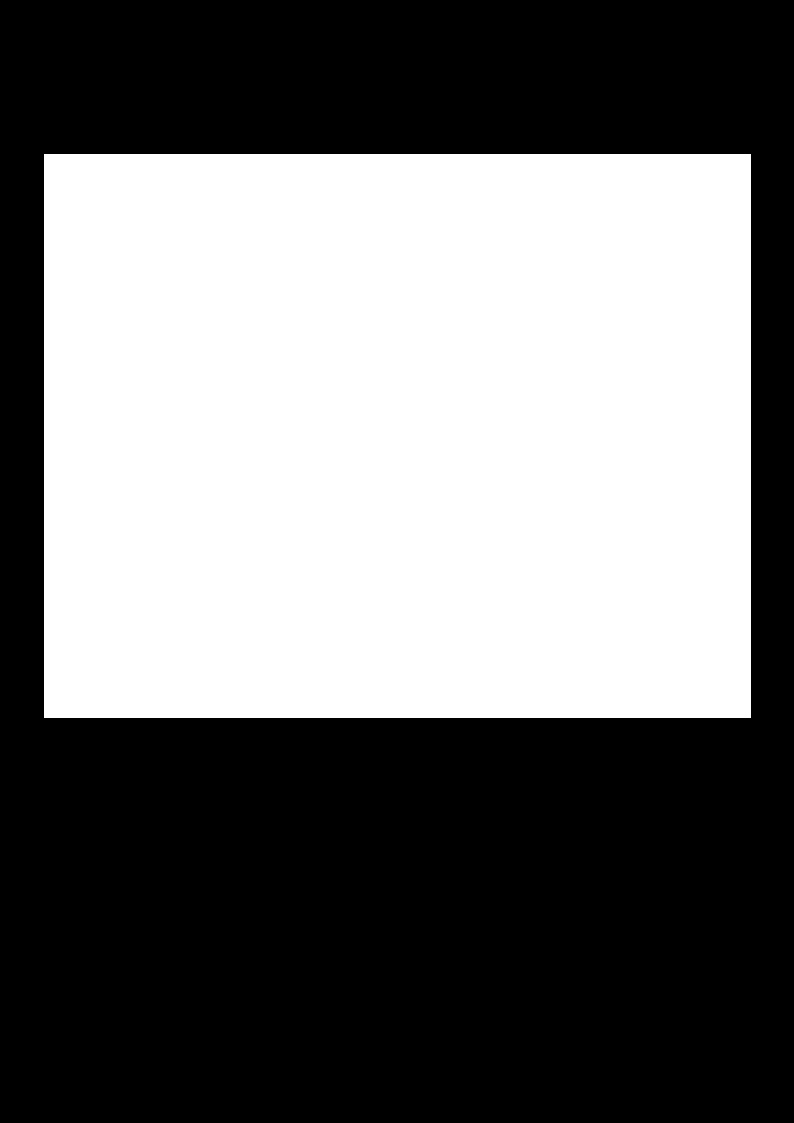table: (44, 154, 750, 717)
